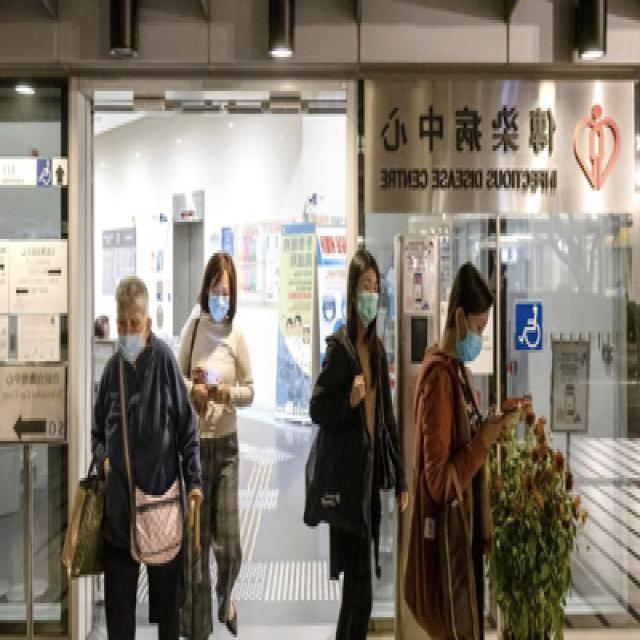mask: (118, 304, 146, 366), (356, 268, 382, 324), (464, 313, 490, 361), (210, 276, 232, 322)
